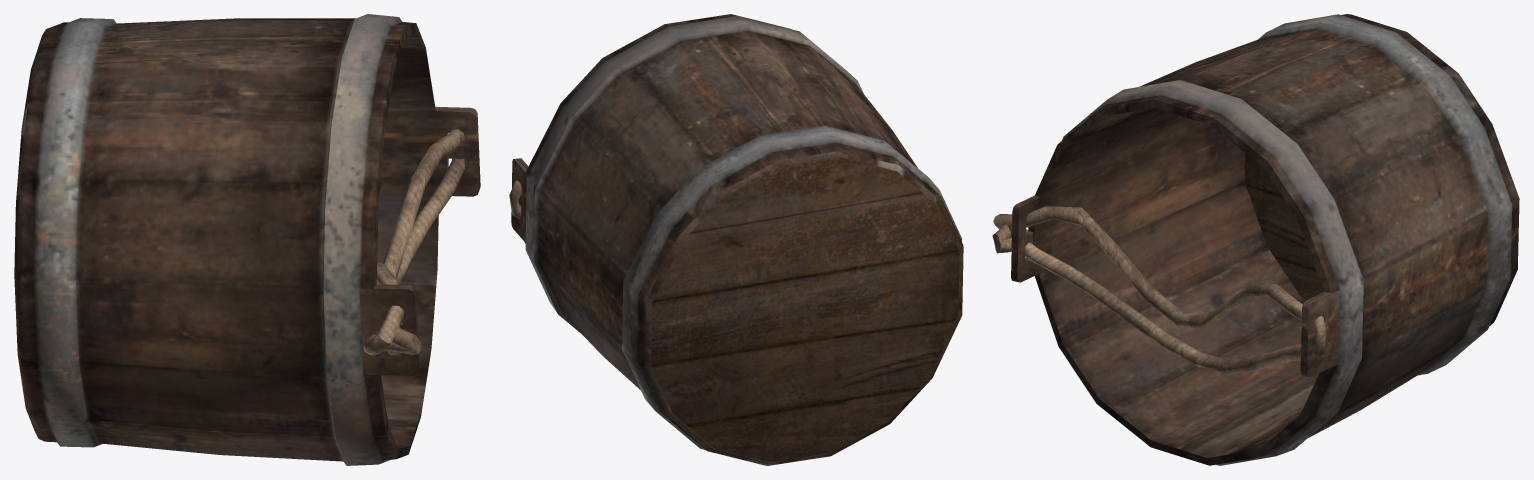
The model's file is bucket_farm.glb.
3 views of the same model, side by side, from view 1: azimuth 30°, elevation 25°; view 2: azimuth 150°, elevation 25°; view 3: azimuth 270°, elevation 25° (orthographic). The views are drawn at different scales.
Visible parts, largest first — view 1: bucket_Planks_0; view 2: bucket_Planks_0; view 3: bucket_Planks_0.
Part boxes in pixels (x1,y1,x2,y2): bucket_Planks_0: (14,14,480,465); bucket_Planks_0: (509,14,963,465); bucket_Planks_0: (992,14,1519,465).
Bounding box in the file's own units: 0.476 × 0.3678 × 0.4947.
2 materials, 2 textured.
